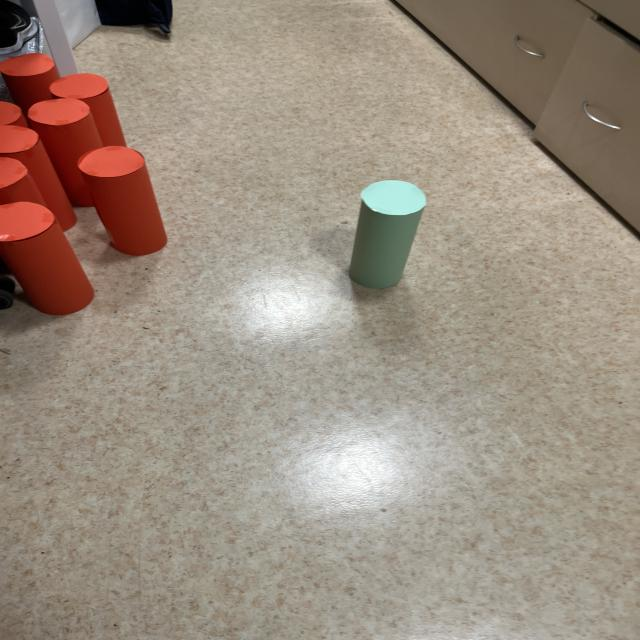meta: (349, 180, 426, 288)
